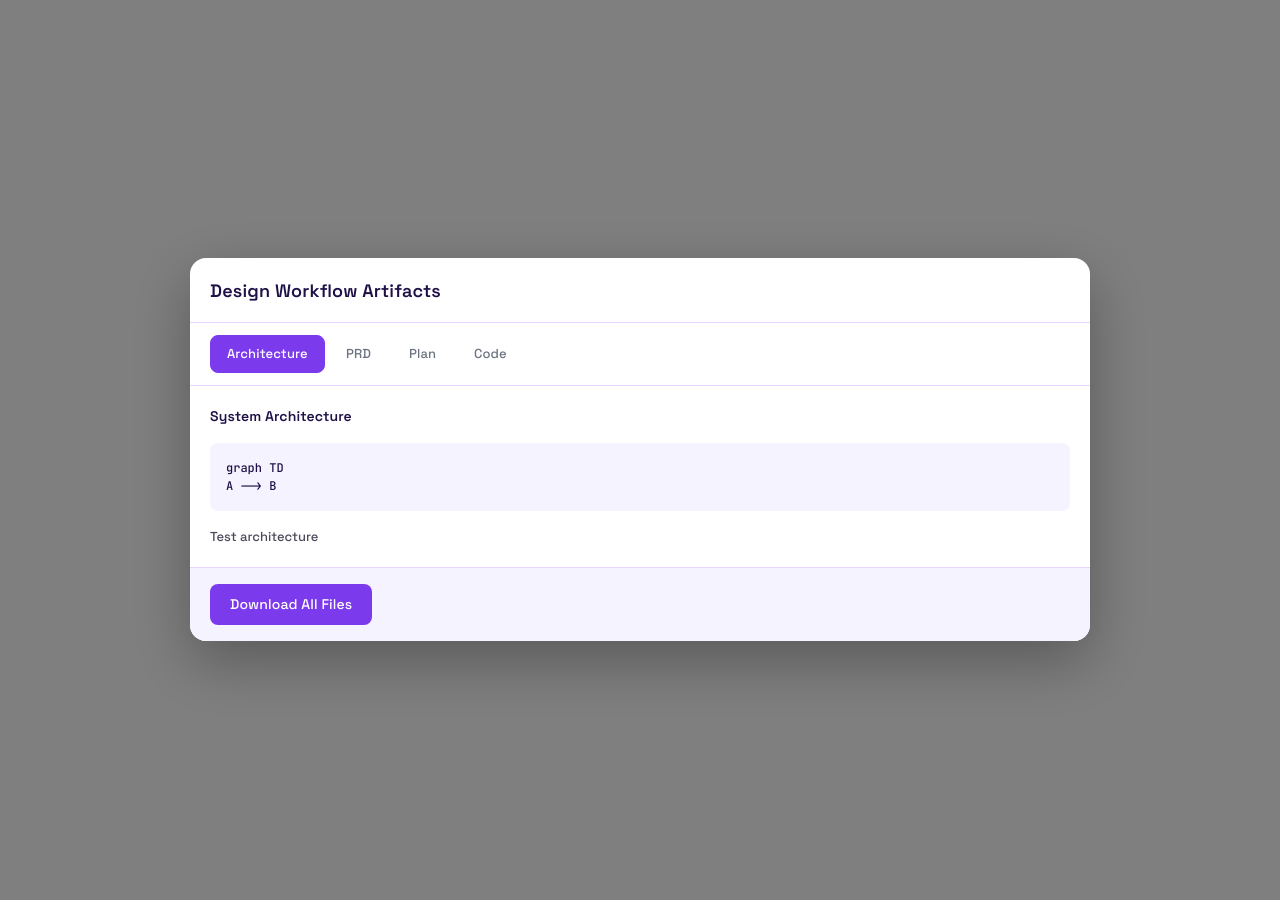
Test: ArtifactViewer › should show plan content when Plan tab selected
The image size is (1280, 900).
Click the button "Plan": coordinates (422, 354) [392,335,453,373]
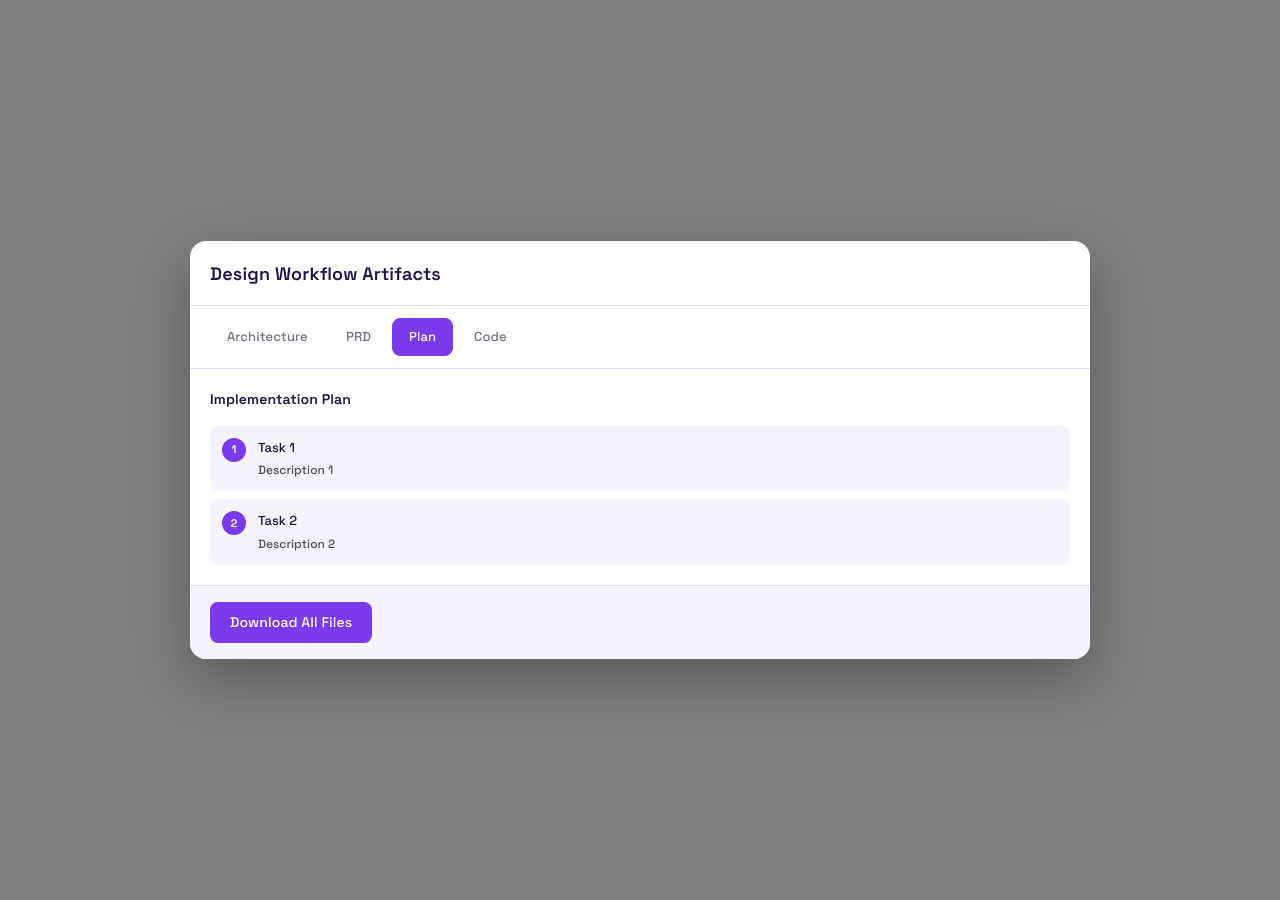
Now the heading "Implementation Plan" is shown, box [210,390,351,408]
